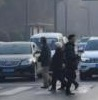person: (64, 34, 82, 96), (37, 36, 54, 89), (50, 42, 68, 92)
